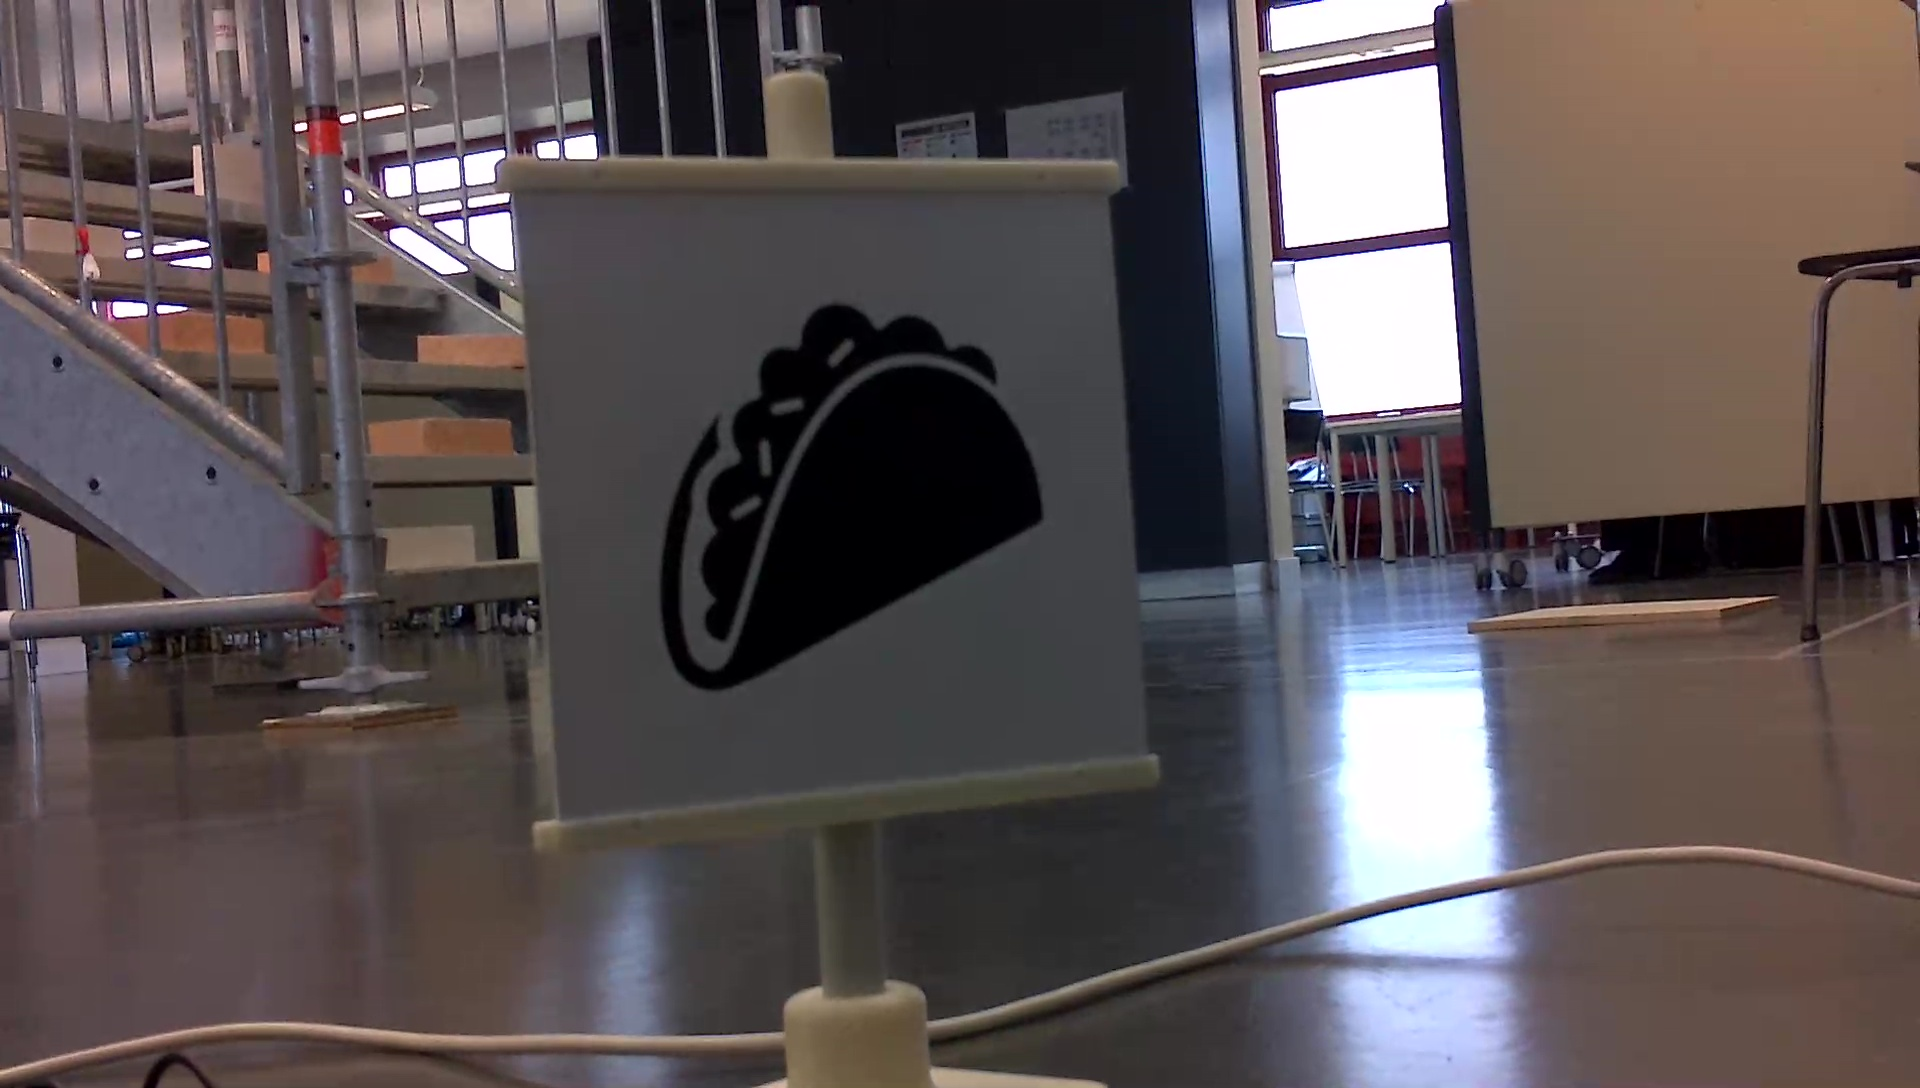brick: (371, 418, 506, 455), (382, 524, 471, 564), (422, 334, 524, 367)
taco: (644, 285, 1058, 702)
